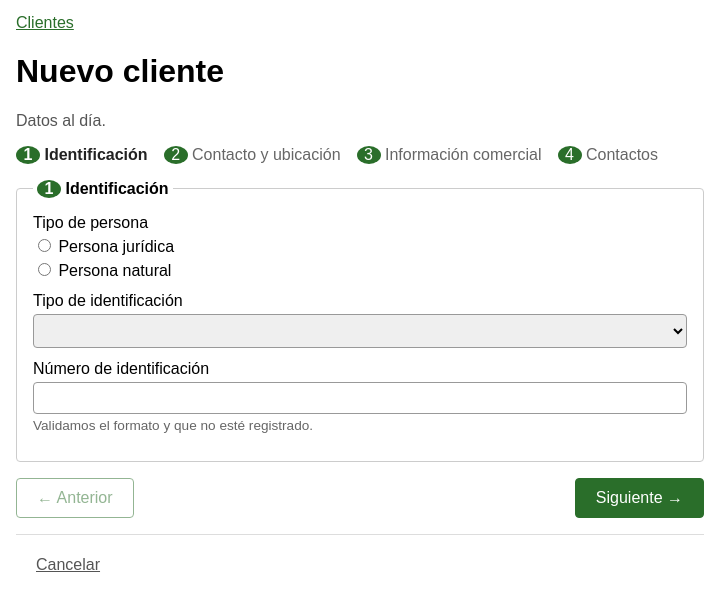
Test: CustomerNewComponent (/nuevo-prospecto) › estados de la pantalla › «Datos al día.» deja de verse en cuanto la persona empieza a escribir
In the field with id "idNumber": [360, 398] box x1=33 y1=382 x2=687 y2=414, type "0"
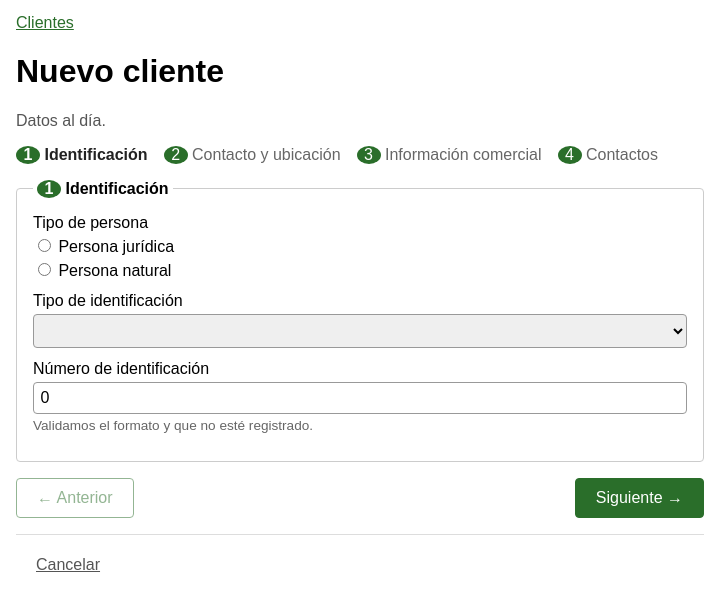
Leave the field with id "idNumber", box x1=33 y1=382 x2=687 y2=414
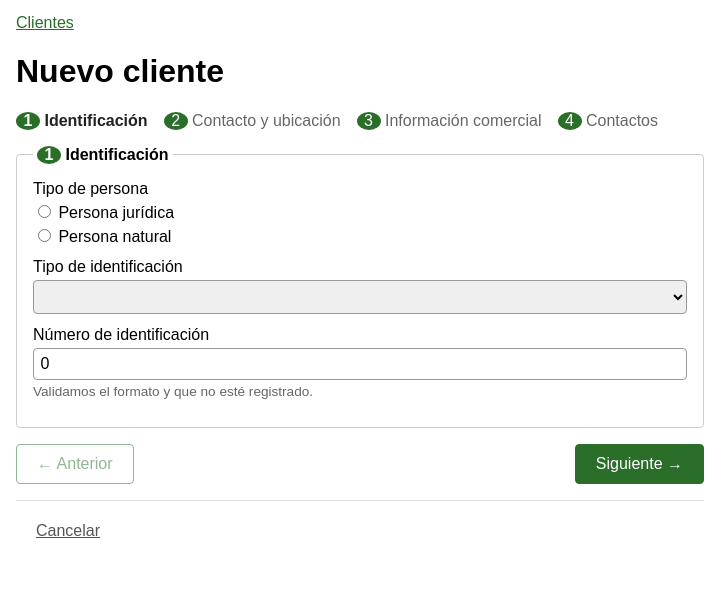
expect the message with class "estado-al-dia" is gone: met
